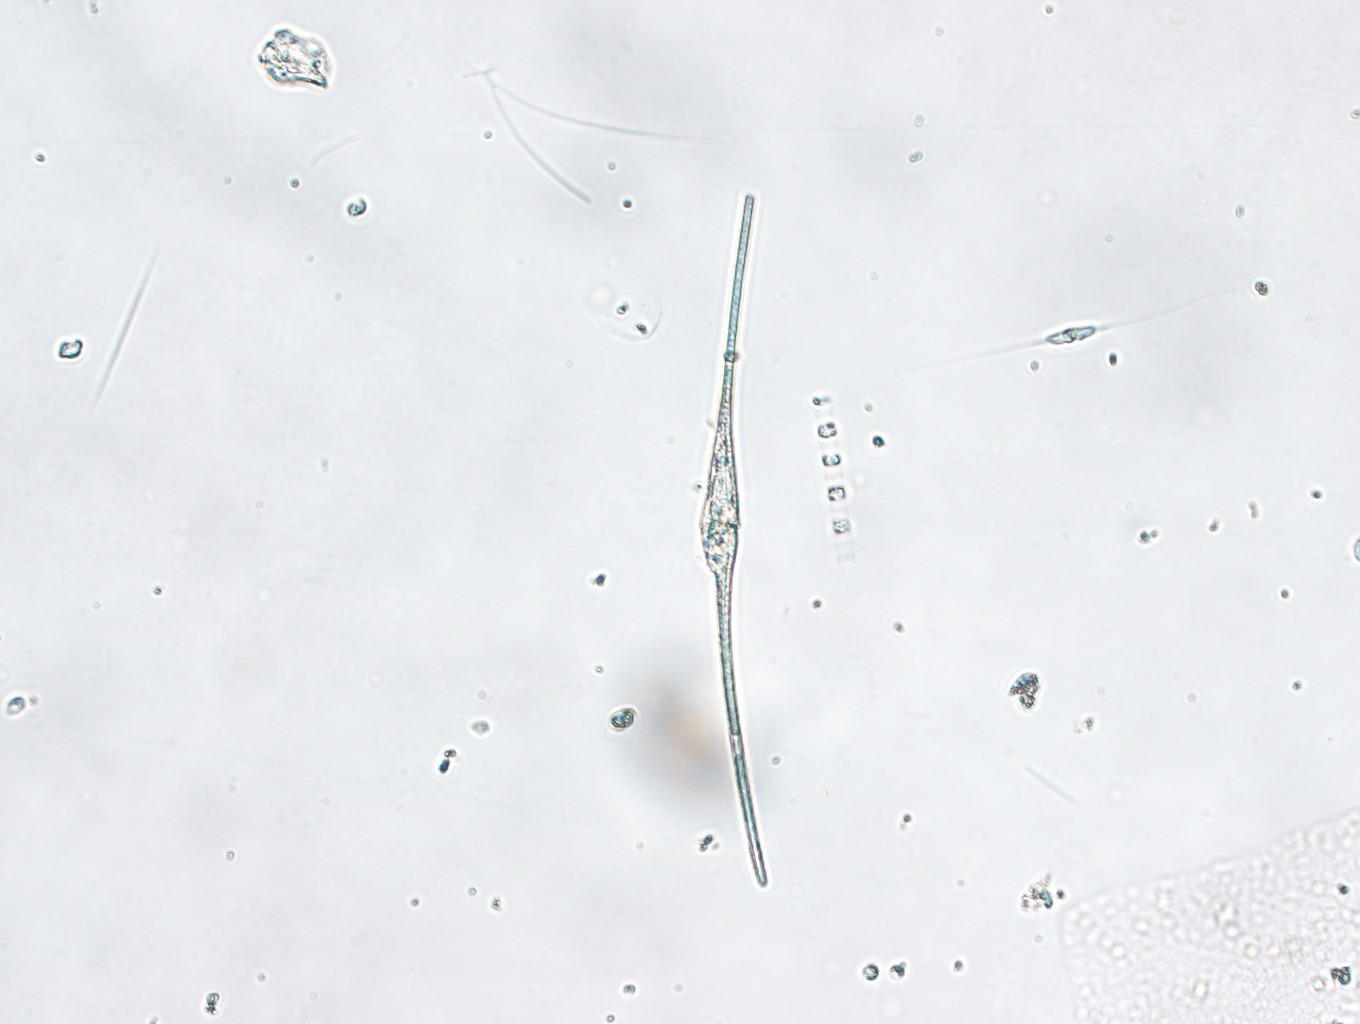ceratium fusus: (696, 194, 772, 888)
skeletonema: (811, 386, 855, 553)
